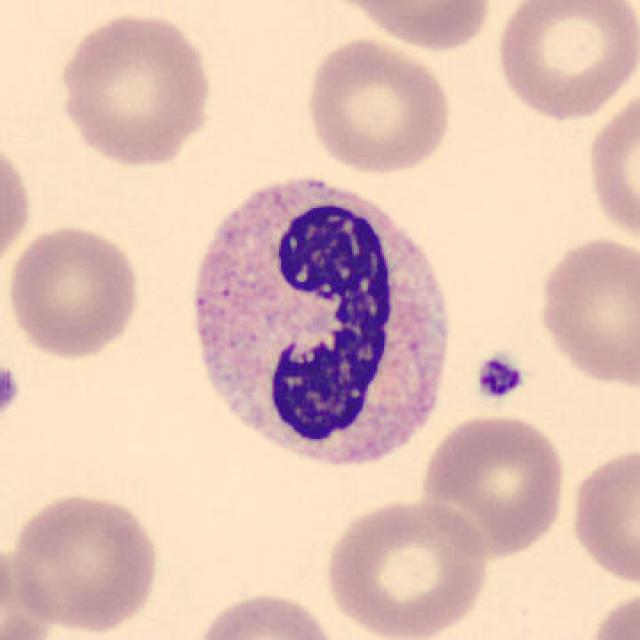Neutrophil: (177, 156, 469, 491)
Platelets: (471, 351, 528, 404), (0, 360, 25, 423)
RBC: (53, 7, 217, 169), (320, 496, 492, 638), (416, 410, 571, 560), (7, 488, 164, 635), (301, 34, 455, 176), (4, 220, 144, 362), (490, 0, 638, 123), (534, 233, 638, 391), (565, 440, 640, 590), (583, 79, 638, 249), (188, 589, 345, 640), (347, 0, 494, 53), (0, 539, 57, 640), (0, 132, 34, 280), (583, 583, 638, 640)
